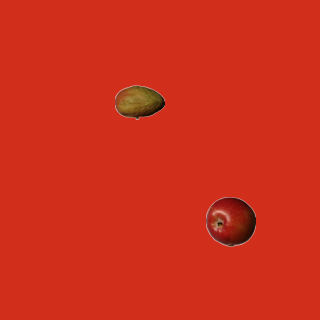Apple Braeburn: (205, 196, 255, 246)
Papaya: (114, 77, 164, 127)
